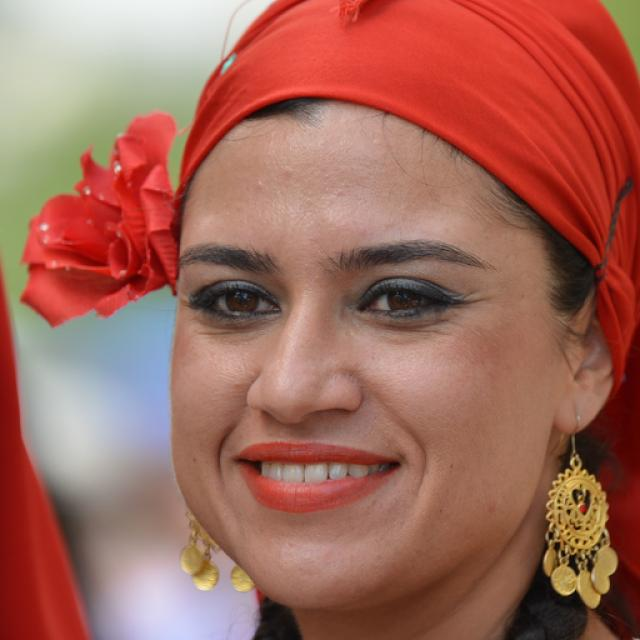Acne: (248, 169, 269, 195), (276, 166, 295, 183)
